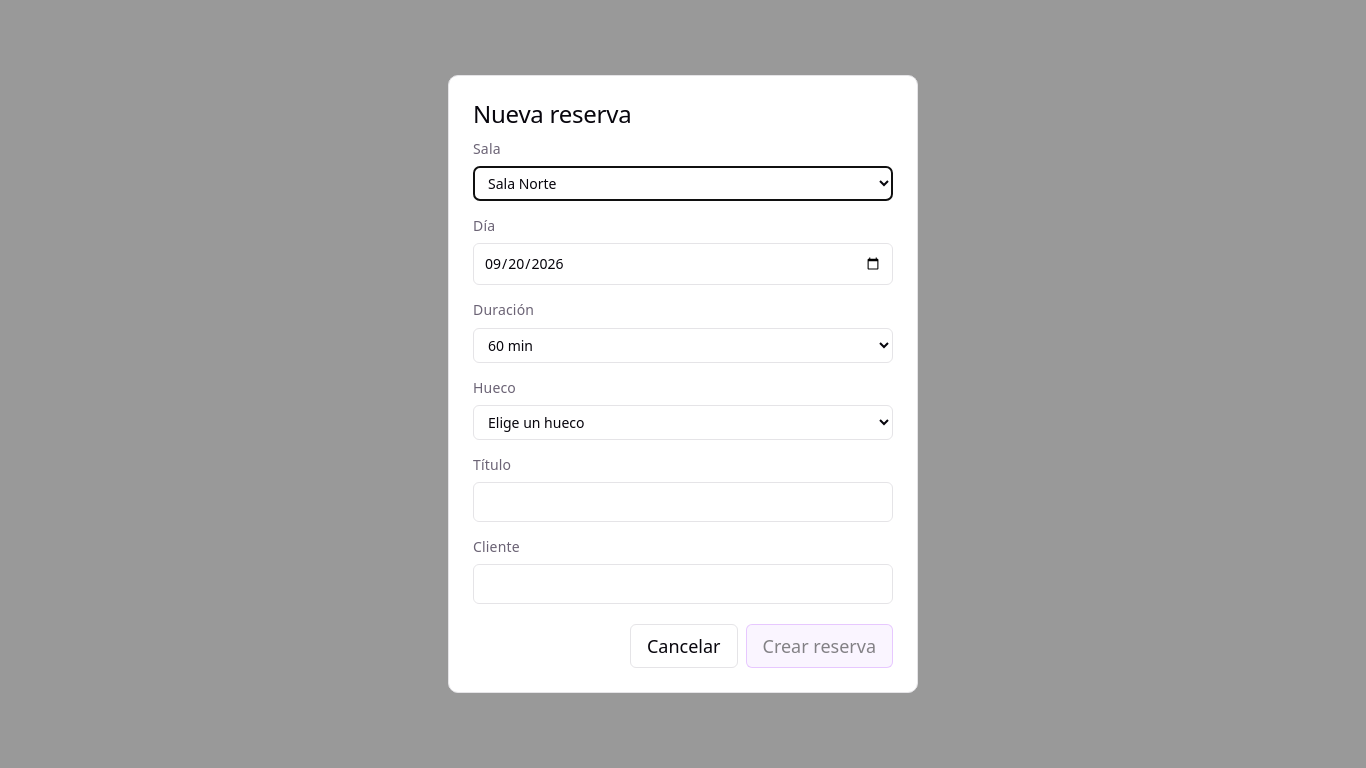
Test: NewBookingDialog: huecos y creación › ante un 409 OVERLAP al enviar, avisa y recarga los huecos
Expected: the dropdown labelled "Sala" is enabled, [473, 166, 893, 201]
Select "11:00–12:00" in the dropdown labelled "Hueco" at (683, 422), box [473, 405, 893, 440]
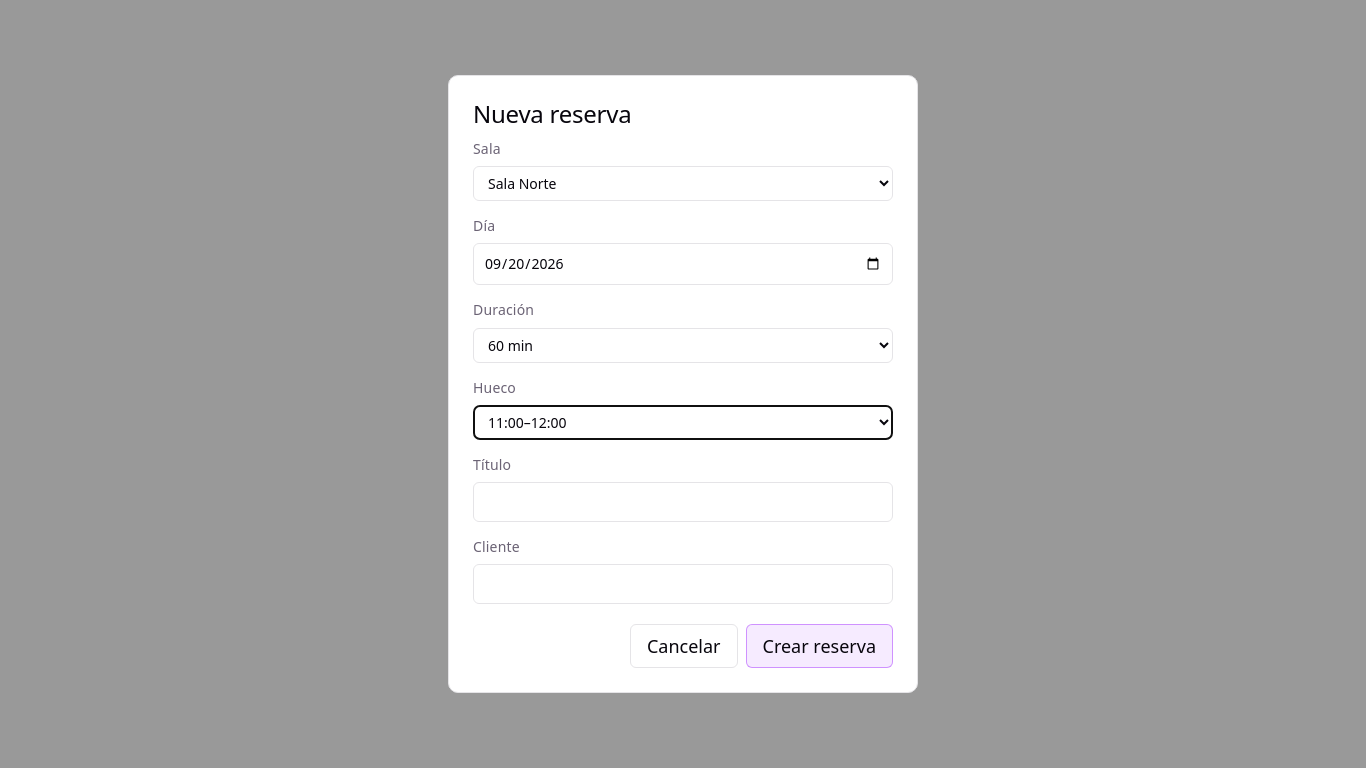
Type "Ensayo de banda" into the field labelled "Título" at (683, 502), box [473, 482, 893, 522]
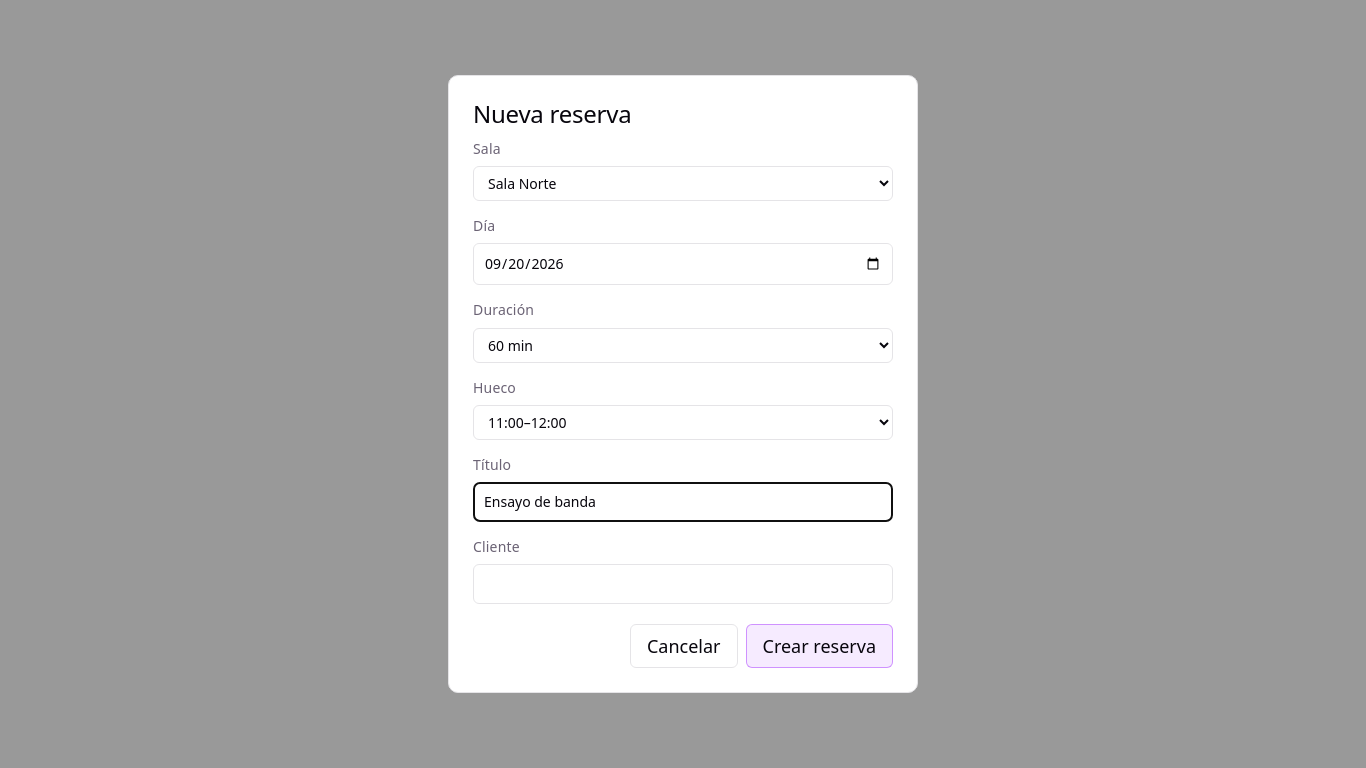
Type "Álvaro García" into the field labelled "Cliente" at (683, 584), box [473, 564, 893, 604]
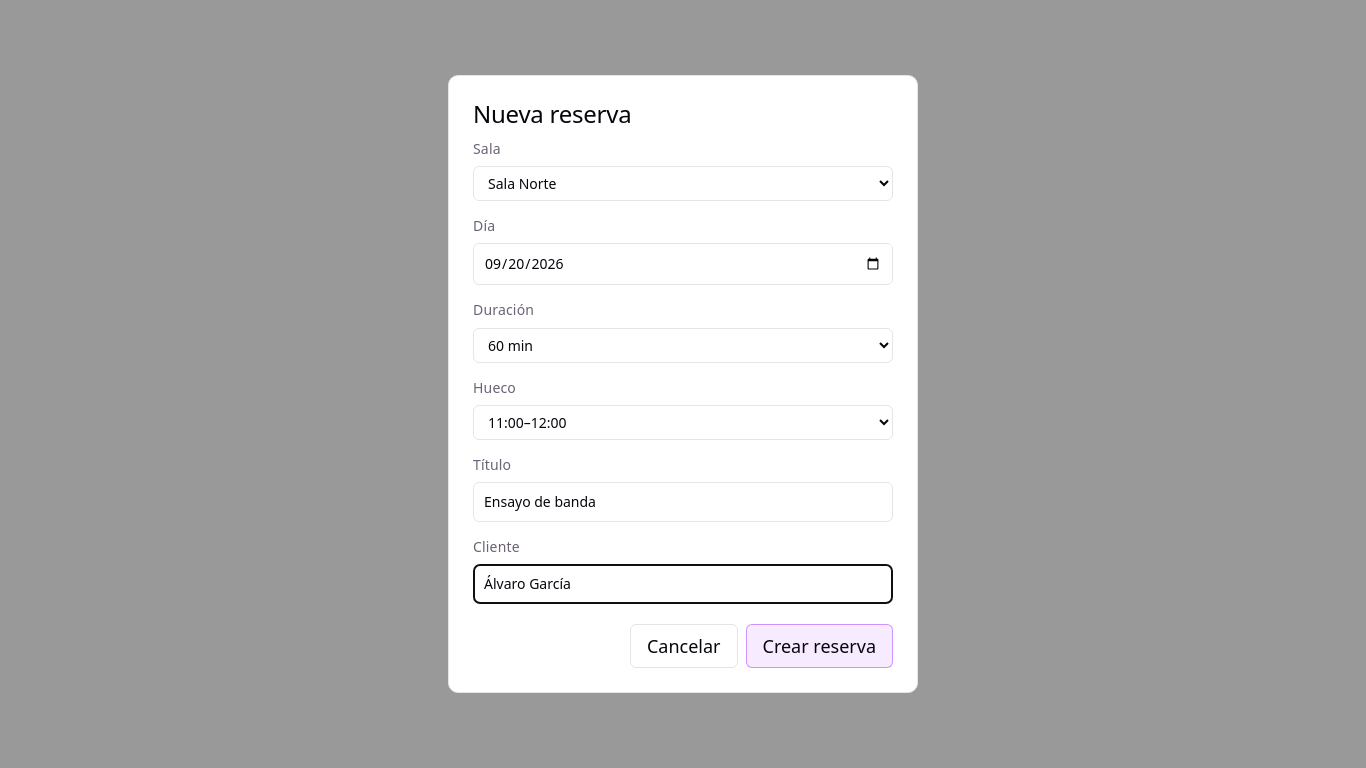
Click the button "Crear reserva" at (819, 646), box [746, 624, 893, 668]
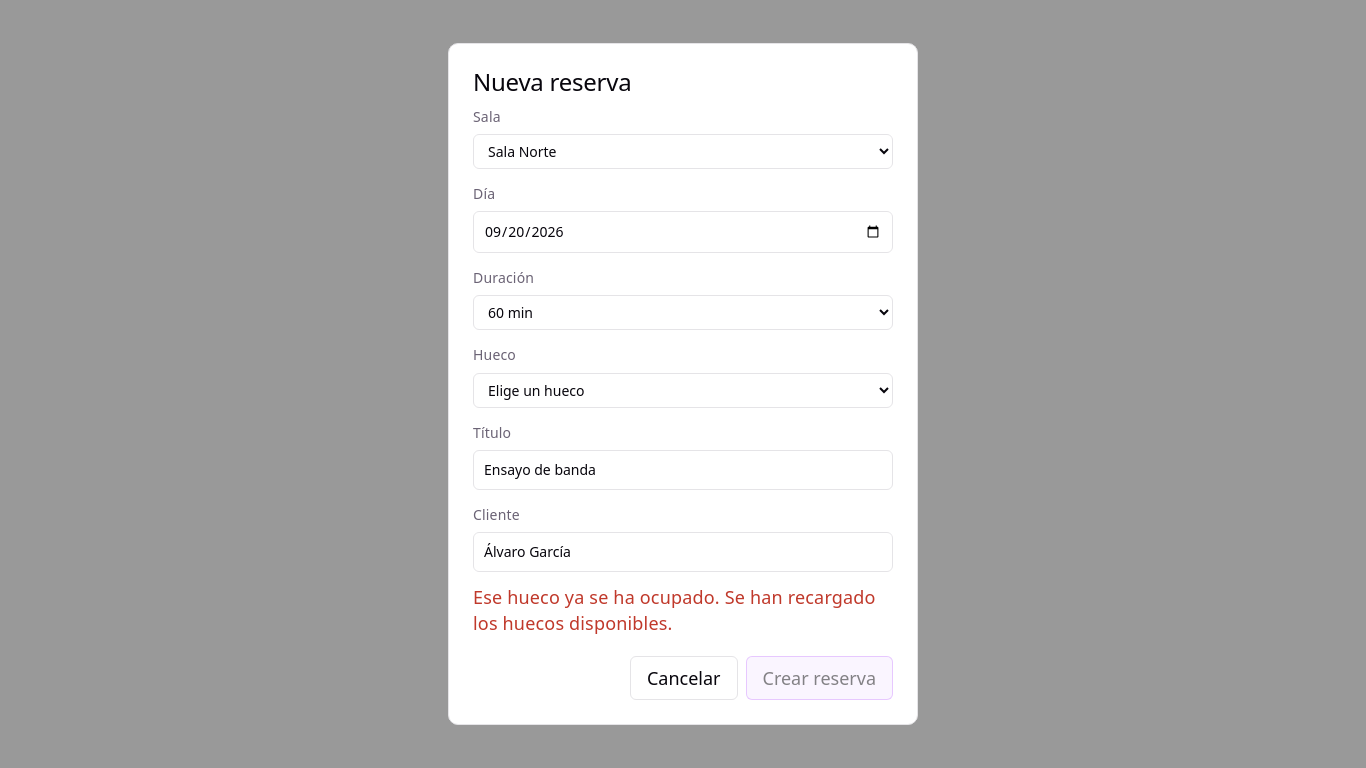
Expected: the message shows "Ese hueco ya se ha ocupado", [473, 585, 876, 635]
